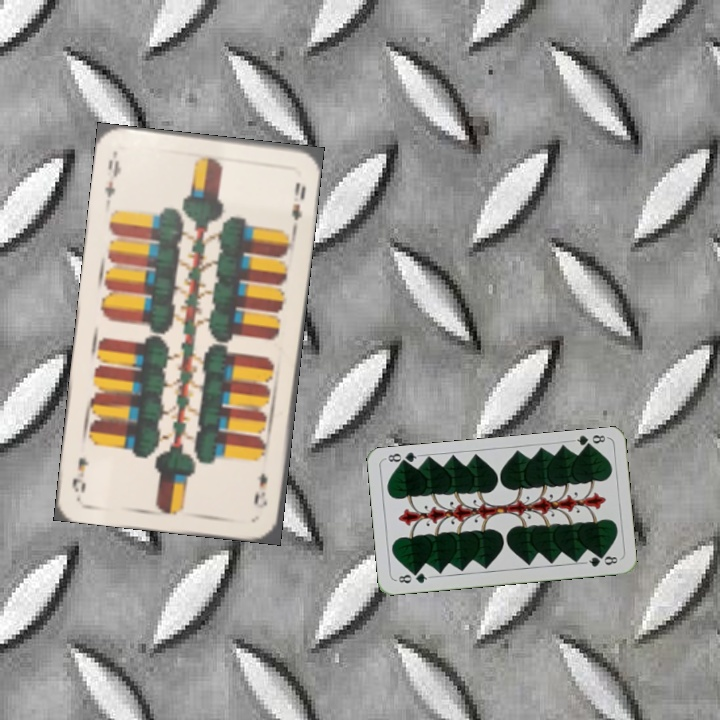E9: (101, 149, 124, 200), (249, 468, 270, 508)
G8: (569, 431, 610, 452), (392, 568, 433, 586)
